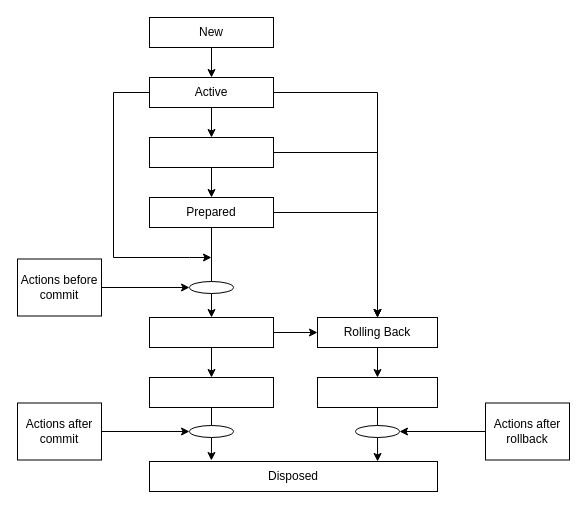
Image size: 587x509. Some labels were removed from this diagram. The centre of each missing label's shape, as x and y in pixels:
Commiting: the point at 211,332
Committed: the point at 211,392
Preparing: the point at 211,152
Rolled Back: the point at 377,392
